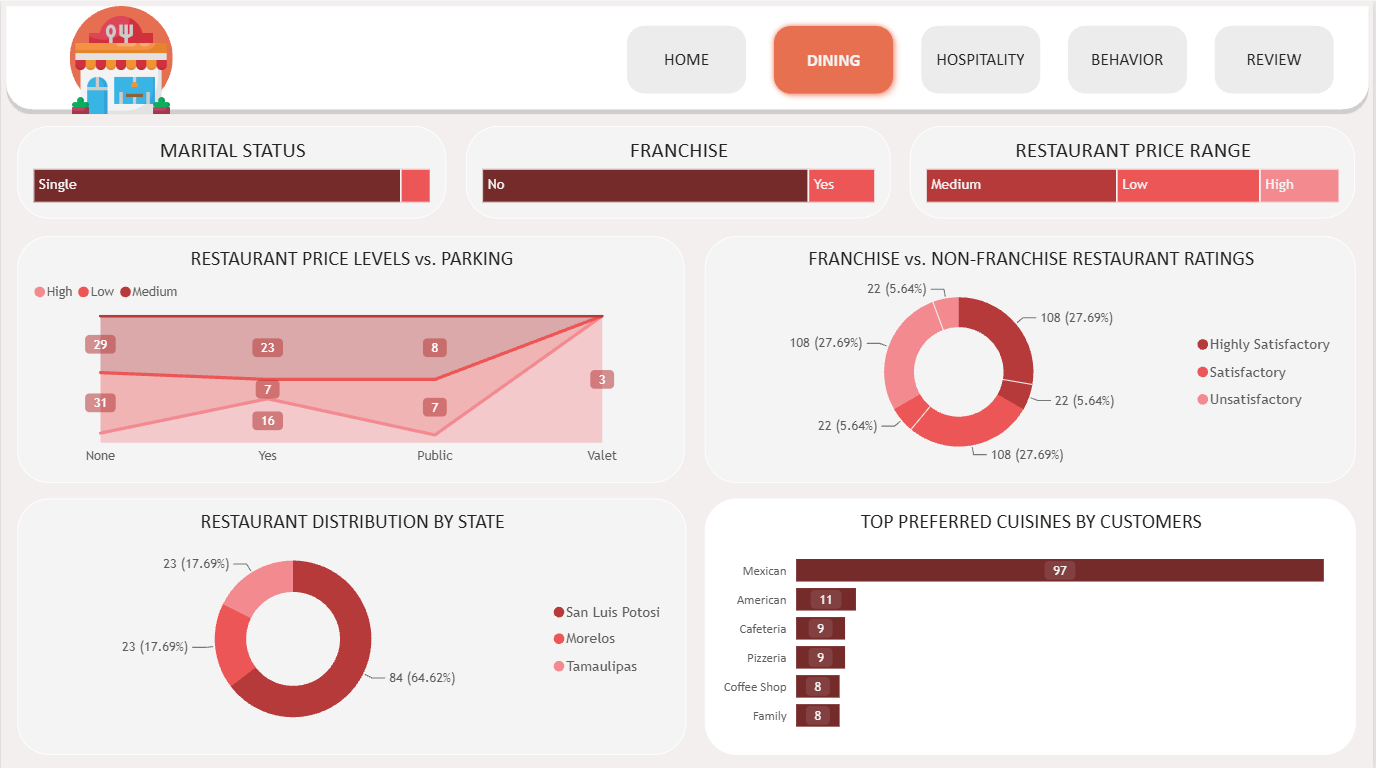

Layout of this report page (visuals, bound fields, positions):
{"tool":"powerbi","page":{"name":"DINING","canvas":[1280,720],"ordinal":1},"visuals":[{"type":"treemap","title":"MARITAL STATUS","fields":{"Values":["CountNonNull(consumers.Marital_Status)"],"Group":["consumers.Marital_Status"]},"box":[15.3,116.8,400.3,86.2],"z":0},{"type":"treemap","title":"FRANCHISE","fields":{"Values":["CountNonNull(restaurants.Franchise)"],"Group":["restaurants.Franchise"]},"box":[433.7,116.8,396.1,86.2],"z":1000},{"type":"treemap","title":"RESTAURANT PRICE RANGE","fields":{"Group":["restaurants.Price"],"Values":["CountNonNull(restaurants.Price)"]},"box":[847.9,116.8,415.6,86.2],"z":2000},{"type":"hundredPercentStackedAreaChart","title":"RESTAURANT PRICE LEVELS vs. PARKING","fields":{"Category":["restaurants.Parking"],"Series":["restaurants.Price"],"Y":["CountNonNull(restaurants.Restaurant_ID)"]},"box":[15.3,219.6,622.7,230.7],"z":3000},{"type":"donutChart","title":"RESTAURANT DISTRIBUTION BY STATE","fields":{"Category":["restaurants.State"],"Y":["CountNonNull(restaurants.Restaurant_ID)"]},"box":[15.3,464.2,624.1,239.1],"z":4000},{"type":"barChart","title":"TOP PREFERRED CUISINES BY CUSTOMERS","fields":{"Category":["consumer_preferences.Preferred_Cuisine"],"Y":["CountNonNull(consumer_preferences.Consumer_ID)"]},"box":[656.1,464.2,607.4,239.1],"z":5000},{"type":"donutChart","title":"FRANCHISE vs. NON-FRANCHISE RESTAURANT RATINGS","fields":{"Y":["CountNonNull(restaurants.Restaurant_ID)"],"Category":["ratings.Overall_Rating_Category"],"Series":["restaurants.Franchise"]},"box":[656.1,219.6,607.4,230.7],"z":6000},{"type":"shape","box":[0,0,1280.5,105.9],"z":7000},{"type":"shape","box":[63.7,4.4,96.2,96.7],"z":8000},{"type":"image","box":[56,9.3,111.5,101.1],"z":9000},{"type":"pageNavigator","box":[576,15.5,677.6,79.1],"z":10000}]}

Visuals, with their boxes in screenshot pixels (x1, y1, x2, y2), scaled from the page's 1280x720 canvas onto the 1376x768 screenshot:
"MARITAL STATUS" treemap: rect(16, 125, 447, 217)
"FRANCHISE" treemap: rect(466, 125, 892, 217)
"RESTAURANT PRICE RANGE" treemap: rect(911, 125, 1358, 217)
"RESTAURANT PRICE LEVELS vs. PARKING" hundredPercentStackedAreaChart: rect(16, 234, 686, 480)
"RESTAURANT DISTRIBUTION BY STATE" donutChart: rect(16, 495, 687, 750)
"TOP PREFERRED CUISINES BY CUSTOMERS" barChart: rect(705, 495, 1358, 750)
"FRANCHISE vs. NON-FRANCHISE RESTAURANT RATINGS" donutChart: rect(705, 234, 1358, 480)
shape: rect(0, 0, 1375, 113)
shape: rect(68, 5, 172, 108)
image: rect(60, 10, 180, 118)
pageNavigator: rect(619, 17, 1348, 101)
